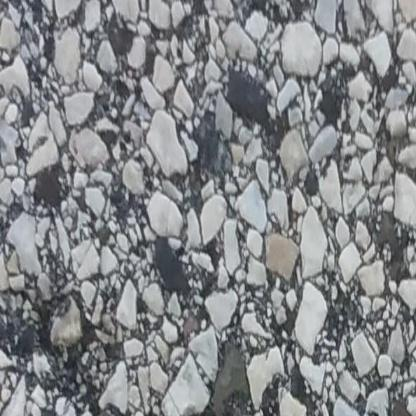Cracks: (0, 237, 125, 416)
